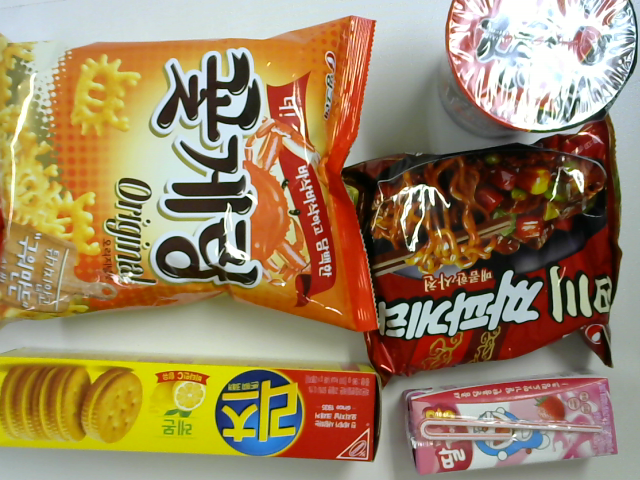Crabrang: (3, 24, 379, 340)
Ritz_Remon_96g: (1, 344, 385, 464)
Sichuan_Chapaghetti: (345, 114, 625, 378)
Sinramen_small: (447, 1, 639, 138)
Strawberry_E_Mong: (399, 380, 626, 480)
